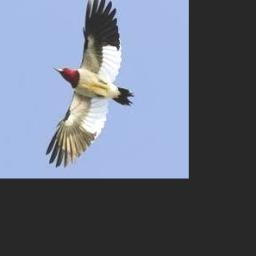Woodpecker: (47, 0, 134, 167)
